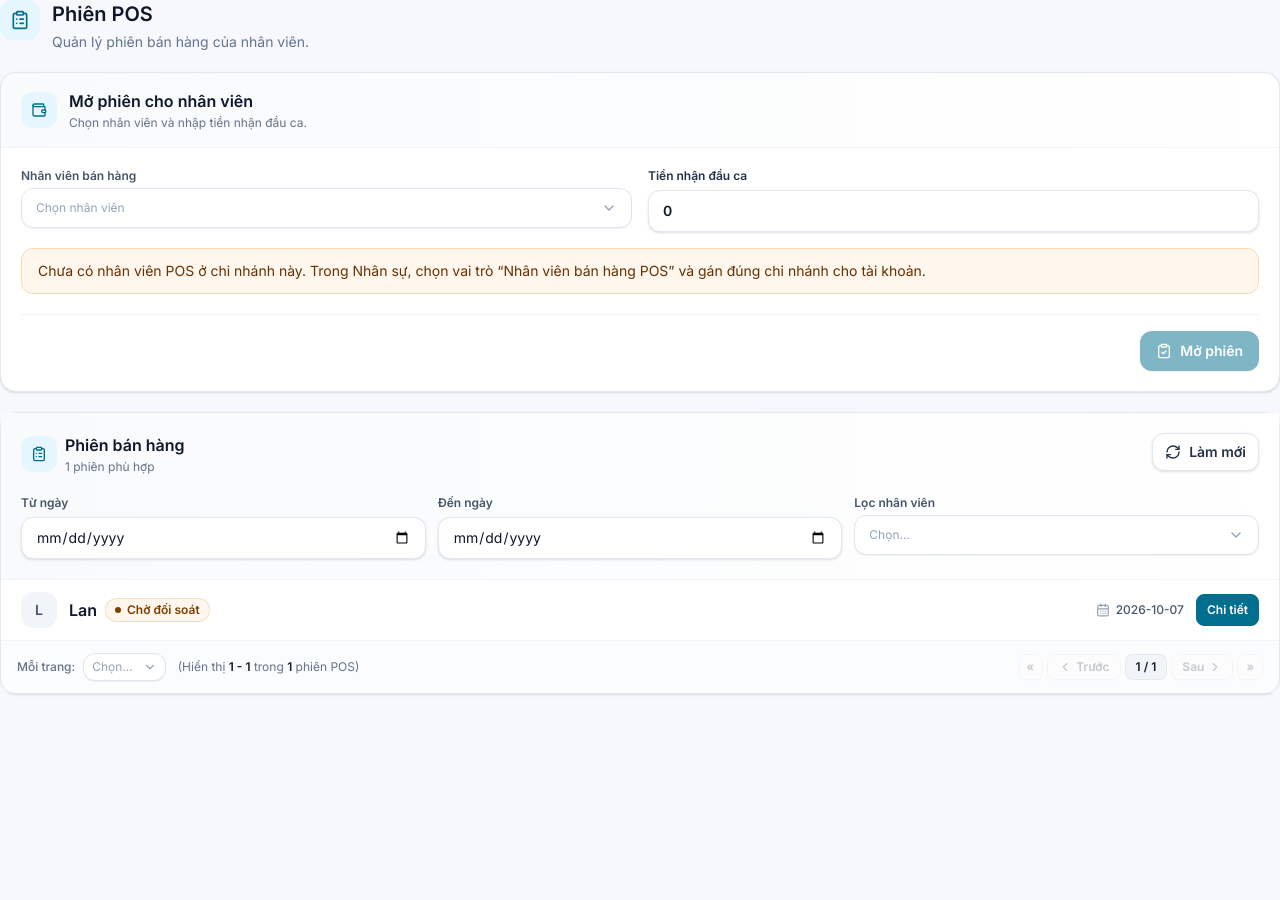
RetailShiftWorkspace session details › opens an employee session detail from the history list
What coordinates should you click on to do the following:
click the button "Chi tiết"
I would click on:
 (1227, 610)
Its box is 1196,594 -> 1259,626.
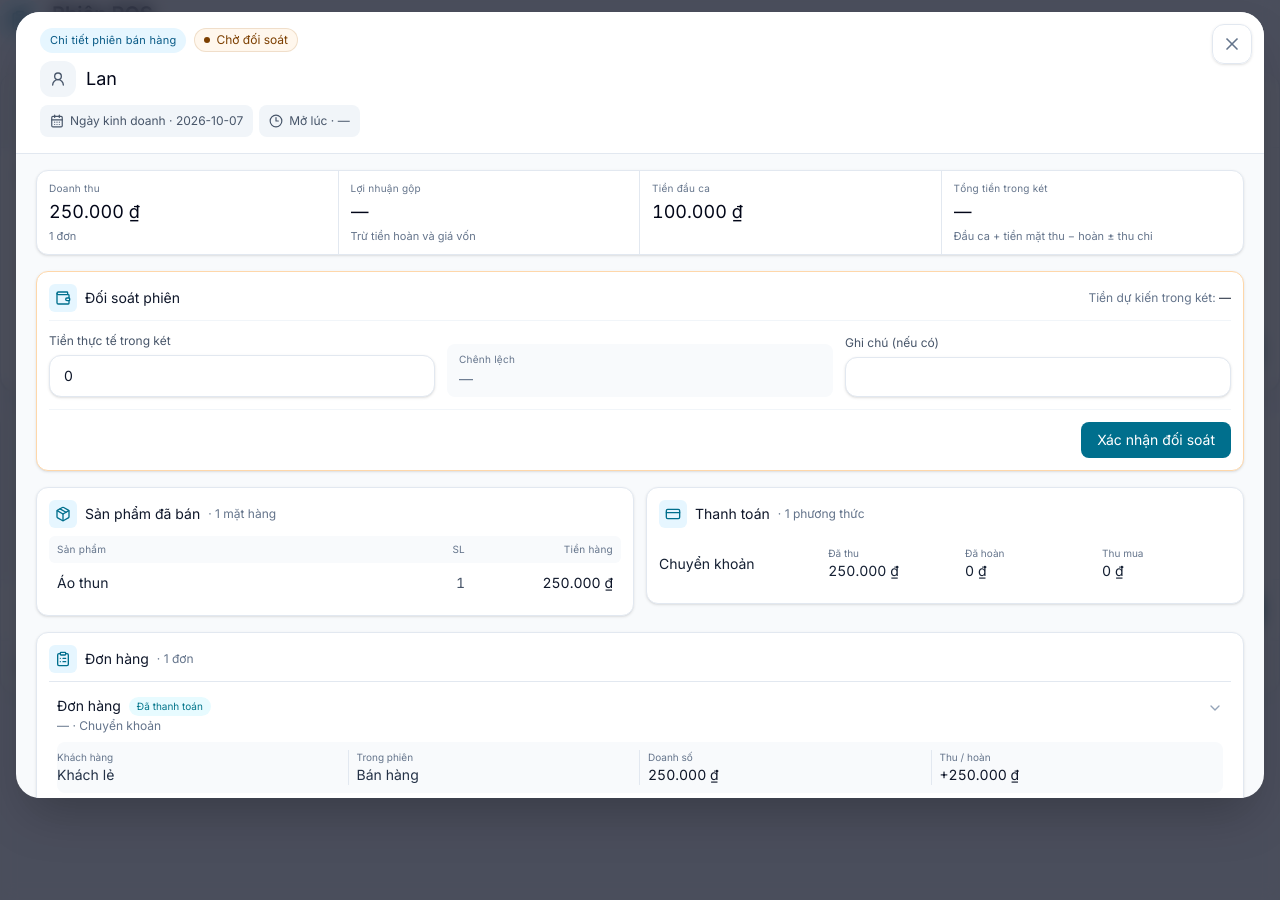
Expected: the dialog "Lan" is shown
Expected: the text "Áo thun" is shown, 57,574 -> 108,591
Expected: the text "Chuyển khoản" is shown, 659,554 -> 754,572
